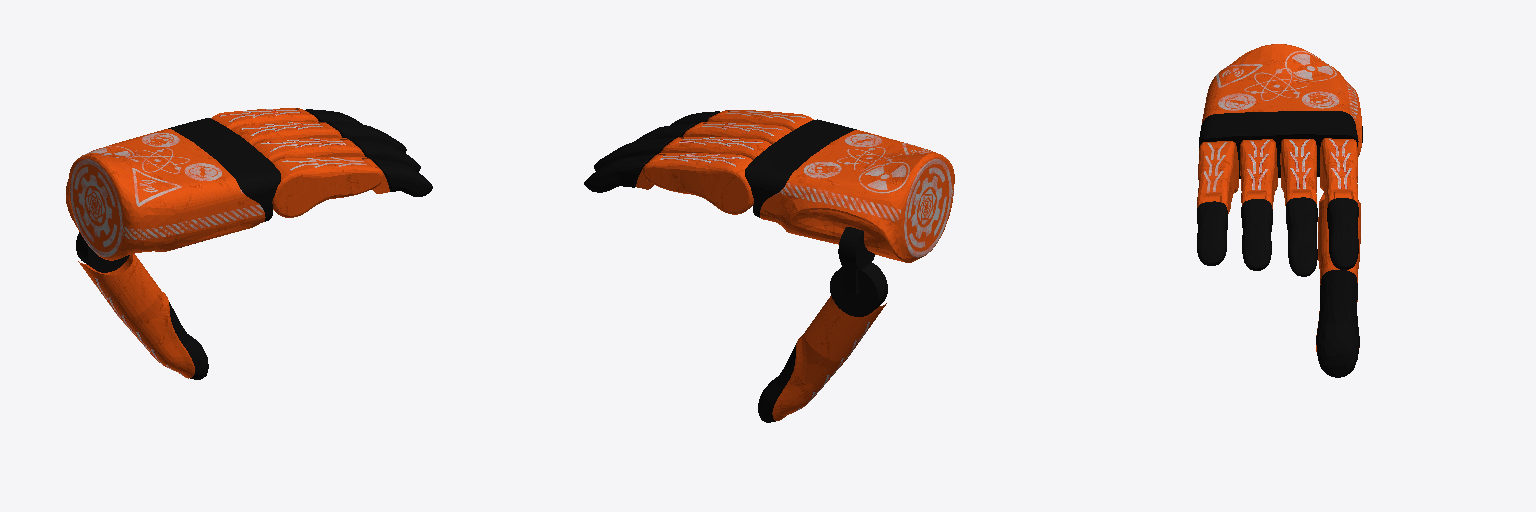
3 renders of one model, left to right at view 1: azimuth 30°, elevation 25°; view 2: azimuth 150°, elevation 25°; view 3: azimuth 270°, elevation 25°, orthographic.
Parts seen in each view (by area): view 1: Default, Default.13, Default.9, Default.7, Default.17, Default.5, Default.2, Default.11, Default.12, Default.18, Default.6, Default.14; view 2: Default, Default.13, Default.2, Default.7, Default.14, Default.5, Default.3, Default.17, Default.15, Default.9, Default.12, Default.6; view 3: Default, Default.7, Default.12, Default.9, Default.6, Default.2, Default.17, Default.5, Default.3, Default.18, Default.11, Default.13.
Boxes of the visible parts, box(x1,y1,x2,y2) form: Default: box(66, 129, 265, 260); Default.13: box(78, 254, 194, 378); Default.9: box(272, 157, 383, 217); Default.7: box(168, 118, 280, 221); Default.17: box(254, 138, 363, 162); Default.5: box(233, 121, 341, 145); Default.2: box(211, 108, 318, 130); Default.11: box(373, 159, 432, 196); Default.12: box(169, 302, 208, 379); Default.18: box(351, 139, 420, 171); Default.6: box(328, 122, 406, 152); Default.14: box(76, 232, 129, 272); Default: box(760, 130, 954, 262); Default.13: box(772, 296, 886, 420); Default.2: box(643, 153, 753, 214); Default.7: box(745, 119, 856, 217); Default.14: box(830, 262, 887, 316); Default.5: box(662, 137, 771, 159); Default.3: box(584, 154, 654, 192); Default.17: box(683, 122, 791, 143); Default.15: box(838, 227, 874, 294); Default.9: box(707, 110, 813, 130); Default.12: box(758, 343, 796, 422); Default.6: box(594, 137, 673, 170); Default: box(1201, 44, 1361, 156); Default.7: box(1199, 111, 1358, 178); Default.12: box(1316, 270, 1359, 377); Default.9: box(1197, 141, 1238, 213); Default.6: box(1286, 197, 1317, 276); Default.2: box(1320, 138, 1357, 208); Default.17: box(1240, 139, 1277, 208); Default.5: box(1280, 139, 1316, 205); Default.3: box(1327, 198, 1358, 269); Default.18: box(1241, 199, 1272, 270); Default.11: box(1197, 201, 1227, 265); Default.13: box(1316, 193, 1360, 351).
Bounding box in the file's own units: 151 × 122 × 67.61.
18 materials, 8 textured.